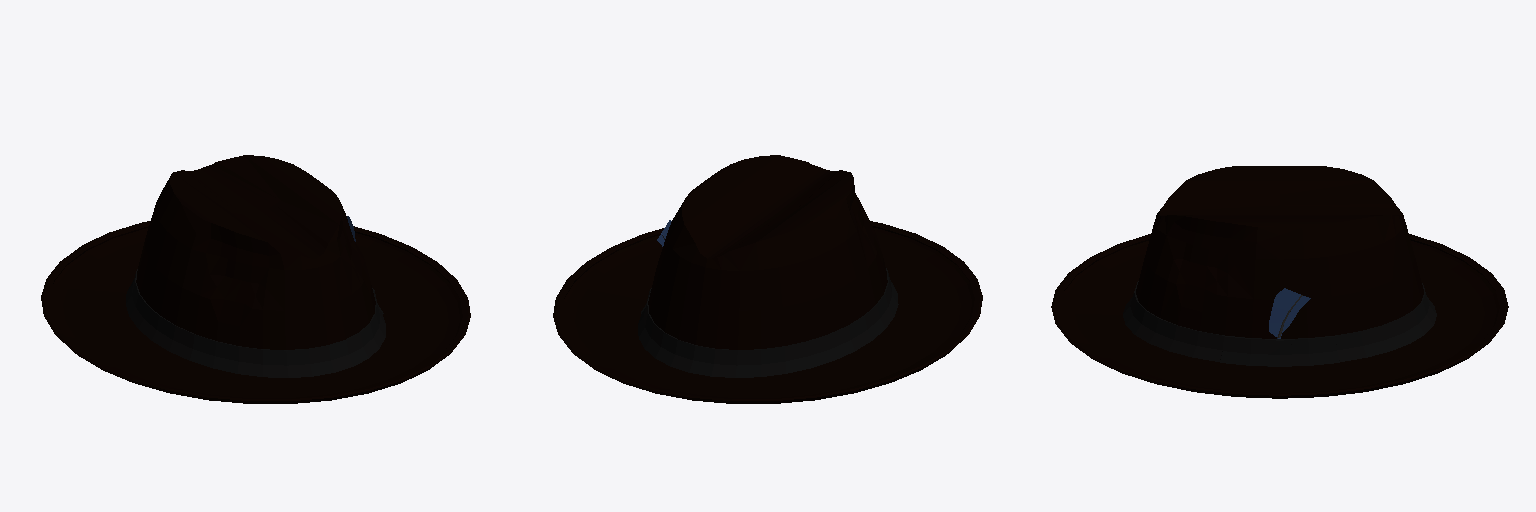
Rendered from fedora_brown_hat.obj.
3 views of the same model, side by side, from view 1: azimuth 30°, elevation 25°; view 2: azimuth 150°, elevation 25°; view 3: azimuth 270°, elevation 25° (orthographic).
Parts seen in each view (by area): view 1: Circle.001; view 2: Circle.001; view 3: Circle.001.
Part boxes in pixels (bbox=[...]): Circle.001: bbox=[41, 155, 470, 403]; Circle.001: bbox=[553, 155, 982, 403]; Circle.001: bbox=[1051, 166, 1508, 398].
Size of the model in its own units: 0.1268 by 0.0406 by 0.1378.